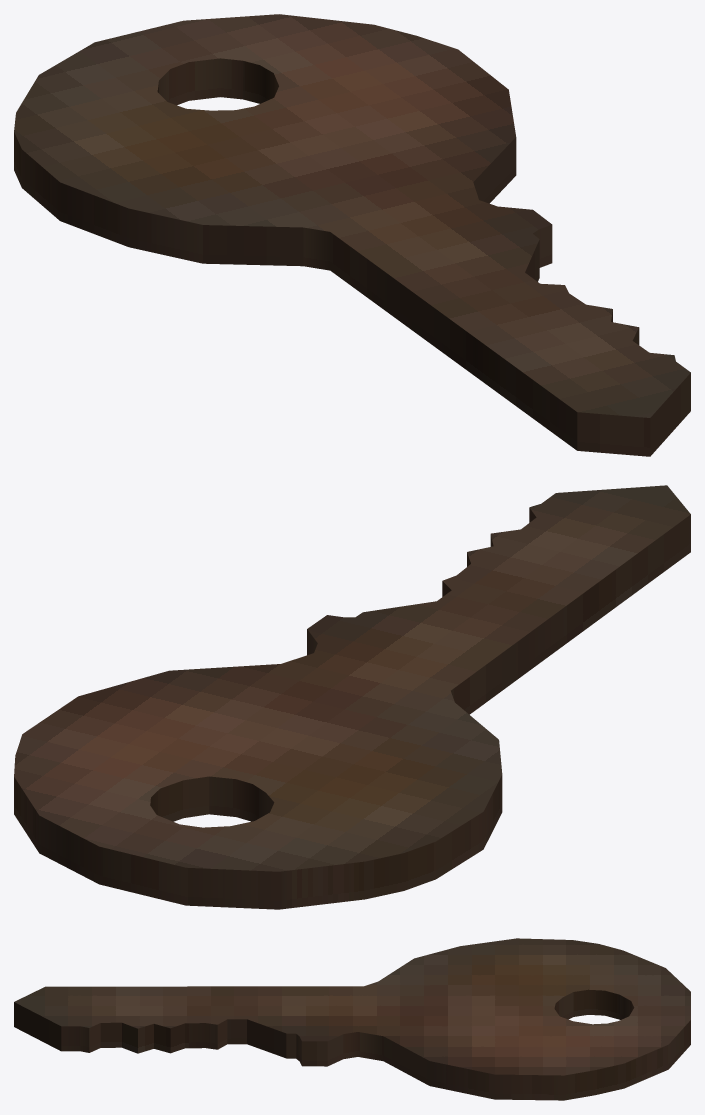
Rendered from key_mp_1_1.glb.
3 renders of one model, top to bottom at view 1: azimuth 30°, elevation 25°; view 2: azimuth 150°, elevation 25°; view 3: azimuth 270°, elevation 25°, orthographic. The views are drawn at different scales.
Visible parts, largest first — view 1: key_mp_1_1; view 2: key_mp_1_1; view 3: key_mp_1_1.
Part boxes in pixels (bbox=[...]): key_mp_1_1: bbox=[14, 14, 690, 456]; key_mp_1_1: bbox=[14, 485, 690, 909]; key_mp_1_1: bbox=[14, 938, 690, 1100].
Bounding box in the file's own units: 0.0352 × 0.00301 × 0.0735.
Materials: 1 (1 with a texture image).
